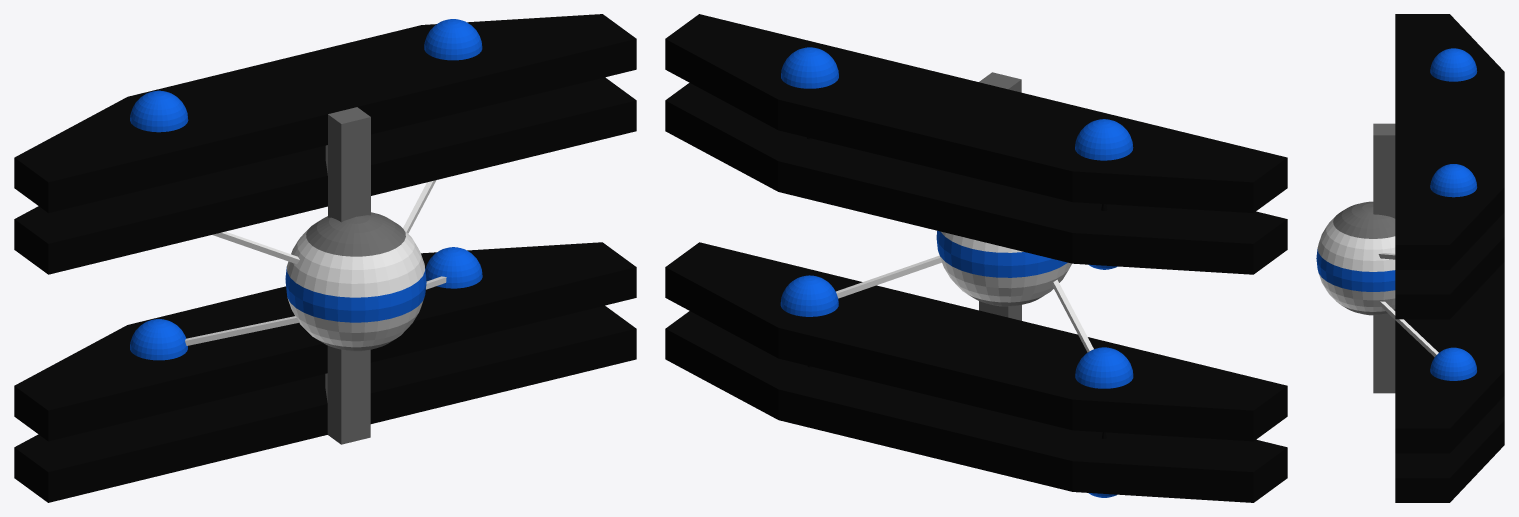
The model's file is Torre Forte C.fbx.
The picture shows the model from 3 angles, left to right: view 1: azimuth 30°, elevation 25°; view 2: azimuth 150°, elevation 25°; view 3: azimuth 270°, elevation 25°; orthographic projection. The views are drawn at different scales.
Parts seen in each view (by area): view 1: Cube; view 2: Cube; view 3: Cube.
Boxes of the visible parts, x1=… form: Cube: x1=14, y1=14, x2=636, y2=502; Cube: x1=665, y1=14, x2=1287, y2=502; Cube: x1=1316, y1=14, x2=1504, y2=502.
Size of the model in its own units: 500 by 303 by 172.
